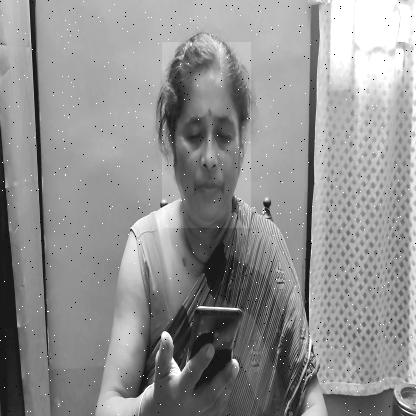Normal: (162, 42, 251, 228)
